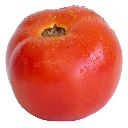tomato: (5, 6, 123, 122)
